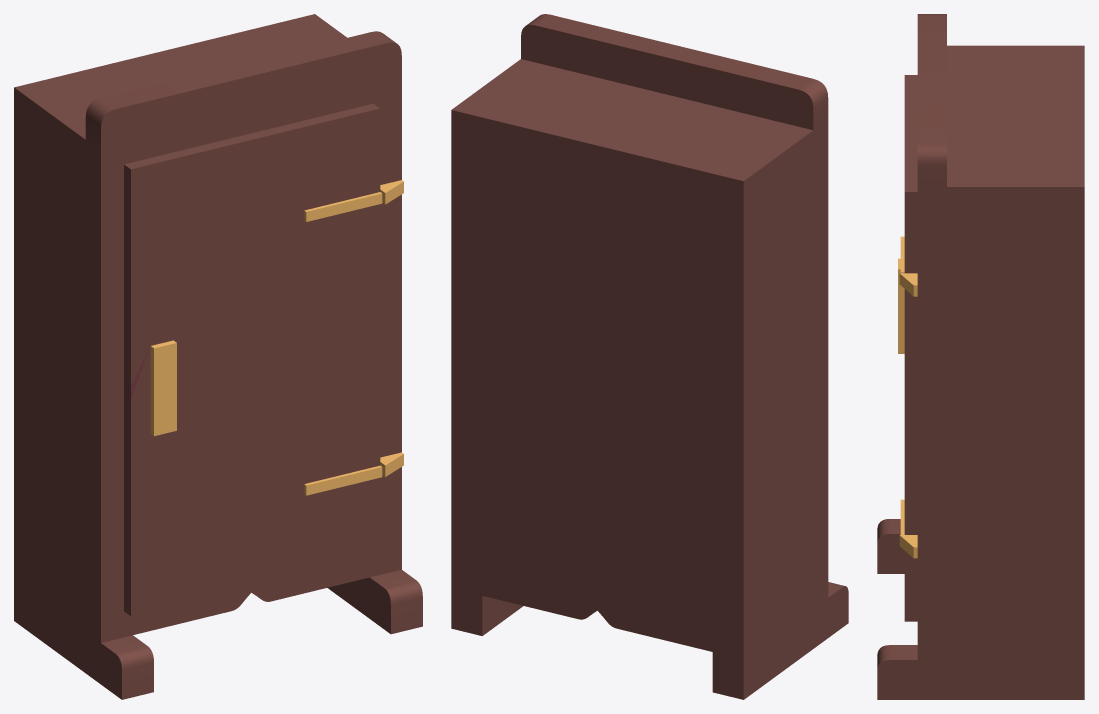
Rendered from KM_armoire.FBX.
The picture shows the model from 3 angles, left to right: view 1: azimuth 30°, elevation 25°; view 2: azimuth 150°, elevation 25°; view 3: azimuth 270°, elevation 25°; orthographic projection. The views are drawn at different scales.
Visible parts, largest first — view 1: Armoire_porteH, Armoire_tureH, Armoire_porte, Armoire_tureB, Armoire_ture, Armoire_porteB; view 2: Armoire_tureH, Armoire_ture, Armoire_tureB; view 3: Armoire_tureH, Armoire_tureB, Armoire_ture, Armoire_porteH, Armoire_porte, Armoire_porteB.
Part boxes in pixels (x1,y1,x2,y2): Armoire_porteH: [124, 103, 382, 399]; Armoire_tureH: [14, 14, 401, 294]; Armoire_porte: [124, 306, 380, 589]; Armoire_tureB: [14, 409, 422, 699]; Armoire_ture: [14, 180, 403, 500]; Armoire_porteB: [124, 422, 382, 616]; Armoire_tureH: [451, 14, 828, 351]; Armoire_ture: [451, 258, 828, 542]; Armoire_tureB: [451, 418, 848, 699]; Armoire_tureH: [917, 14, 1084, 359]; Armoire_tureB: [877, 493, 1084, 699]; Armoire_ture: [899, 273, 1084, 514]; Armoire_porteH: [900, 75, 917, 399]; Armoire_porte: [898, 258, 917, 494]; Armoire_porteB: [900, 493, 917, 621].
Bounding box in the file's own units: 40 × 72.63 × 24.85.
